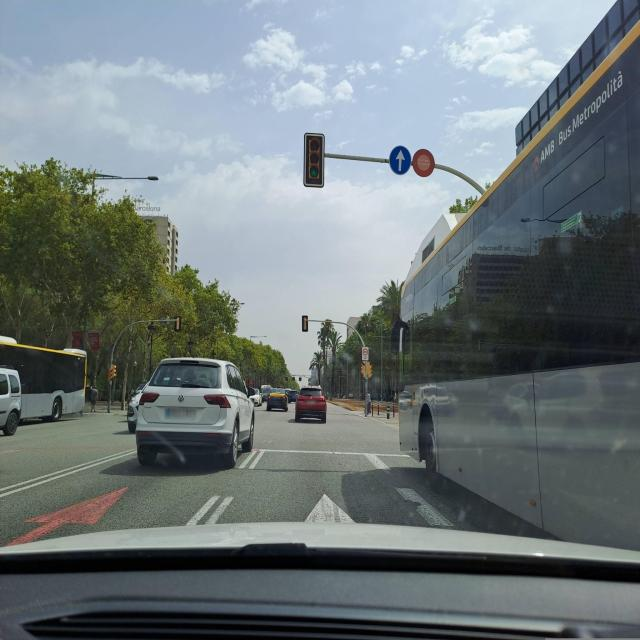car: (135, 356, 256, 469), (0, 365, 23, 440), (294, 384, 328, 424), (126, 381, 150, 434), (266, 386, 289, 412), (248, 388, 263, 407), (285, 388, 298, 404), (260, 386, 272, 402)
